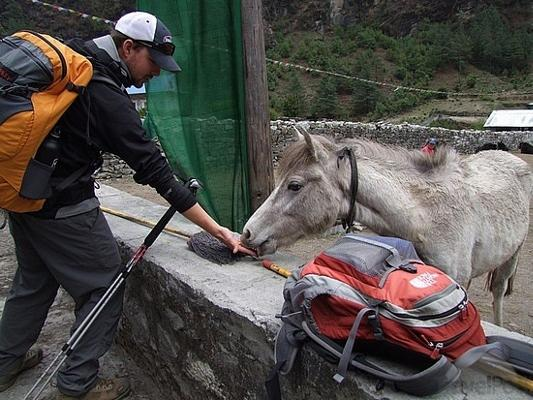person: (5, 13, 245, 394)
